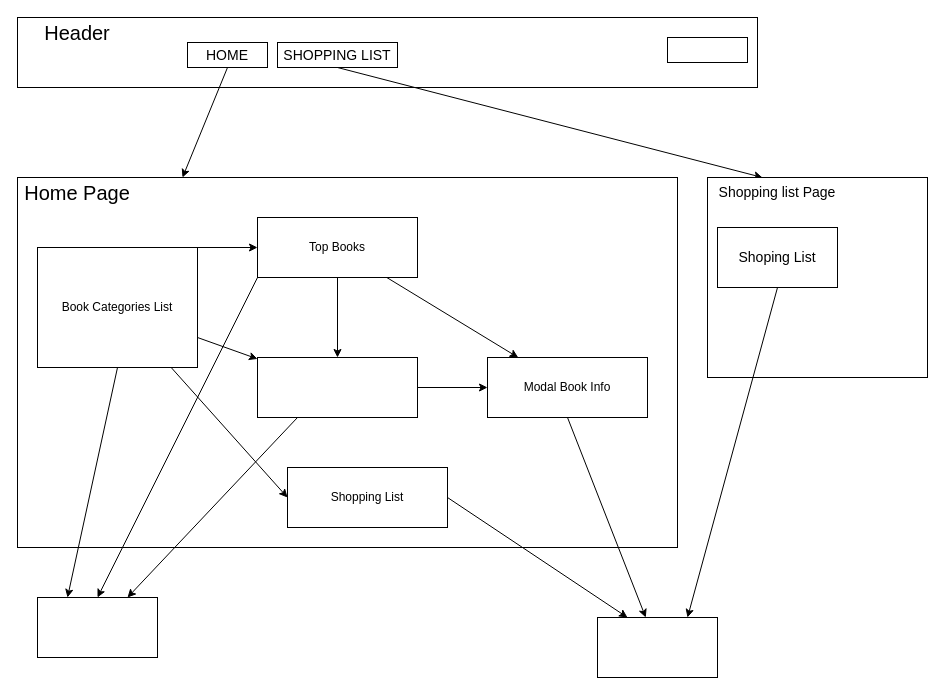
Some shapes in this 945 by 695 pixel diagram are drawn without their labels. The centre of each missing label's shape, as x and y in pixels:
"BookAPI" belongs at pixel 97 627.
"Category Book List" belongs at pixel 337 387.
"LocalStorageAPI" belongs at pixel 657 647.
"SIGN UP" belongs at pixel 707 49.
